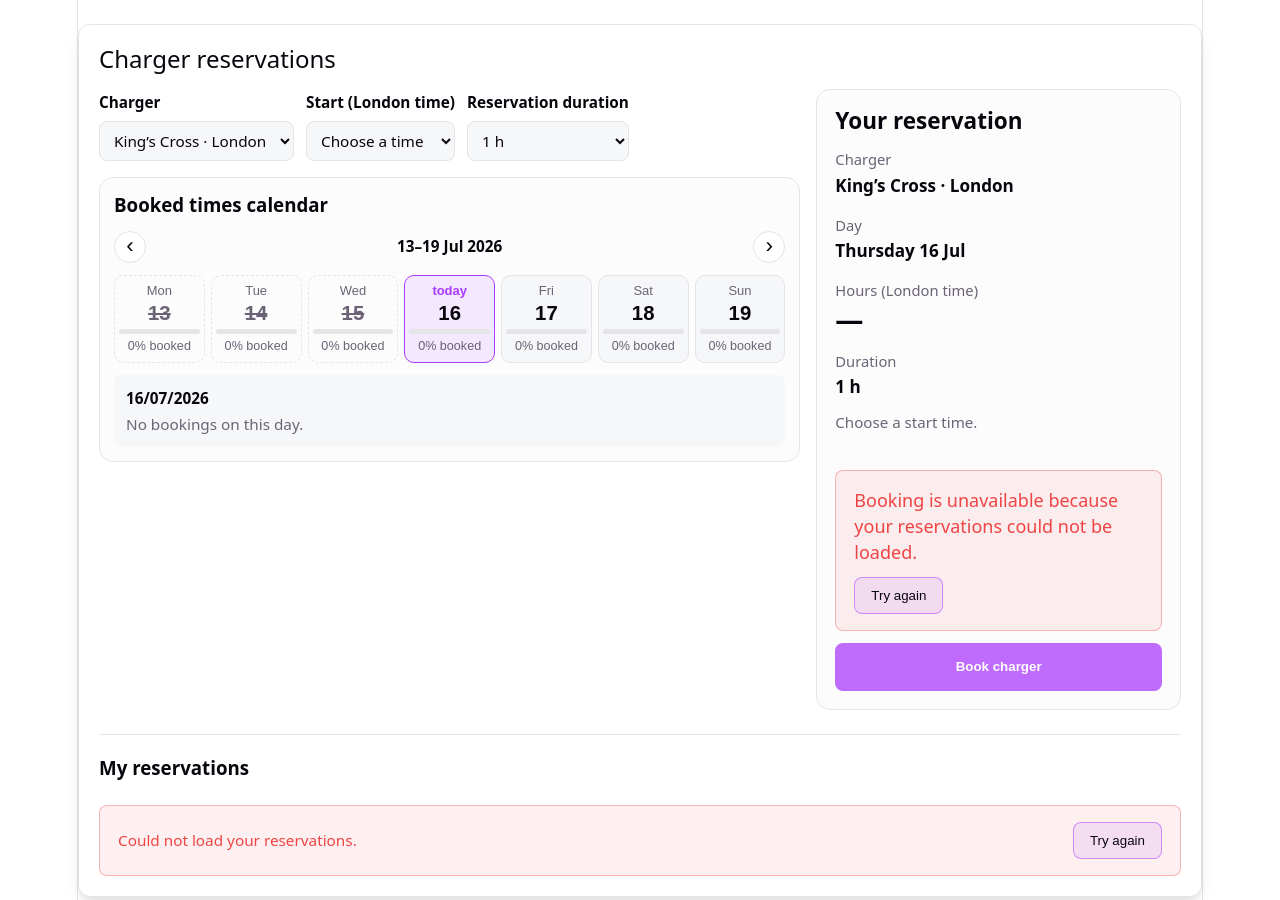
Test: ReservationsSection › explains why booking is blocked when own reservations fail to load
Expected: the message shows "Booking is unavailable because your reservations could not be loaded.", [854, 488, 1118, 564]
Click the button "Try again" below "Choose a start time.".
click(899, 595)  # box [854, 577, 943, 614]
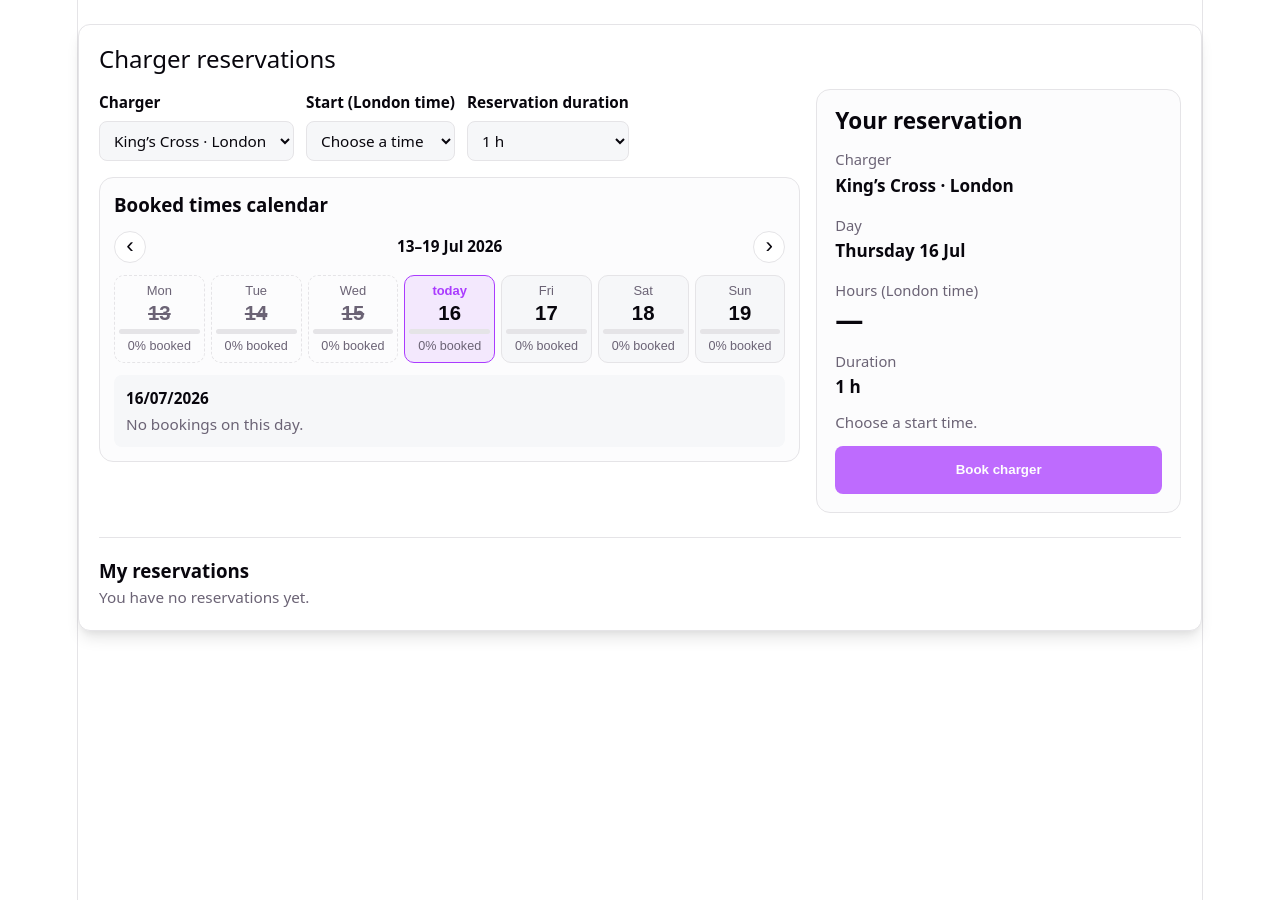
Now the message "Booking is unavailable because your reservations could not be loaded. Try again" is gone
